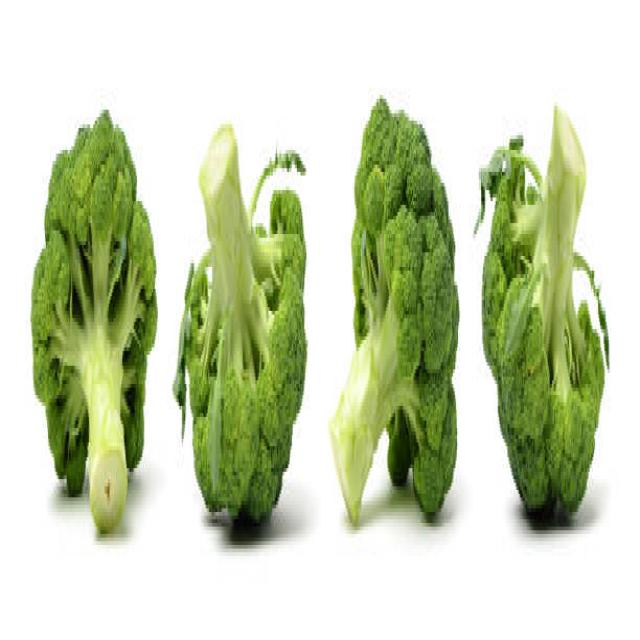broccoli: (331, 16, 465, 600), (25, 27, 175, 546), (181, 36, 320, 516), (484, 69, 617, 529)
